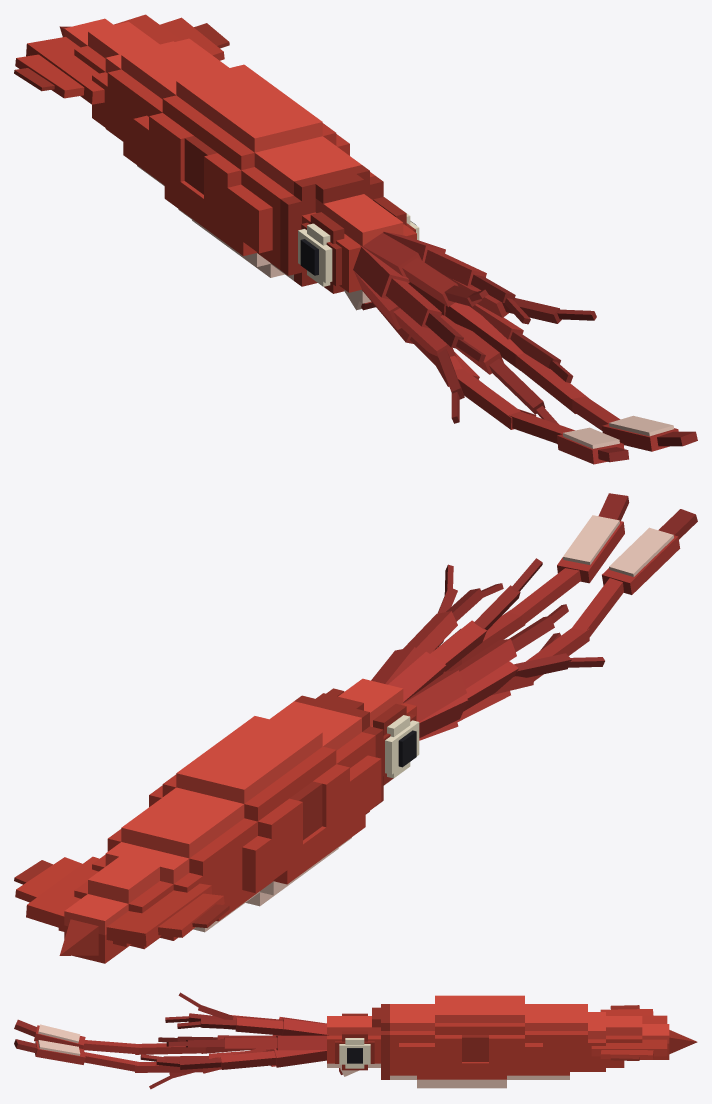
File: GiantSquid.obj
The picture shows the model from 3 angles, top to bottom: view 1: azimuth 30°, elevation 25°; view 2: azimuth 150°, elevation 25°; view 3: azimuth 270°, elevation 25°; orthographic projection. The views are drawn at different scales.
Visible parts, largest first — view 1: Mantle, Head, FinL, TRe, FinR, TLe, TRb, TLc, TRc, A4b, A4a, A3b (+12 smaller); view 2: Mantle, FinL, Head, FinR, TLe, TRe, A4a, TRd, A4b, A3a, A3b, TLd (+10 smaller); view 3: Mantle, Head, FinR, TRe, TLe, A8b, A1a, A8a, A2b, FinL, A2a, A1b (+14 smaller).
Boxes of the visible parts, x1,y1,x2,y2 form: Mantle: (59,18,383,286); Head: (298,194,419,310); FinL: (14,37,104,104); TRe: (602,415,697,451); FinR: (114,14,229,60); TLe: (557,427,628,464); TRb: (445,302,523,370); TLc: (455,369,520,429); TRc: (515,353,587,413); A4b: (385,278,441,328); A4a: (353,245,408,299); A3b: (402,258,458,306); Mantle: (58,693,383,963); FinL: (106,883,229,946); Head: (326,678,419,785); FinR: (14,856,99,929); TLe: (602,509,697,594); TRe: (557,493,629,583); A4a: (401,670,466,721); TRd: (508,568,581,626); A4b: (452,639,516,688); A3a: (388,651,446,702); A3b: (430,620,486,671); TLd: (572,578,623,636); Mantle: (372,995,697,1088); Head: (327,1013,380,1076); FinR: (591,1039,667,1060); TRe: (14,1039,85,1064); TLe: (14,1019,85,1048); A8b: (220,1051,276,1069); A1a: (276,1035,326,1050); A8a: (274,1048,326,1067); A2b: (235,1017,283,1035); FinL: (600,1005,667,1023); A2a: (282,1018,329,1035); A1b: (224,1037,277,1048).
Size of the model in its own units: 6.4 by 4.56 by 34.18.
1 material, 1 textured.
